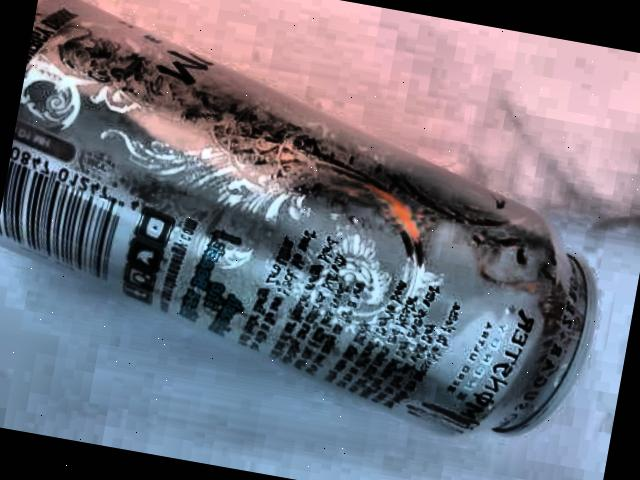Bottles: (0, 0, 640, 451)
